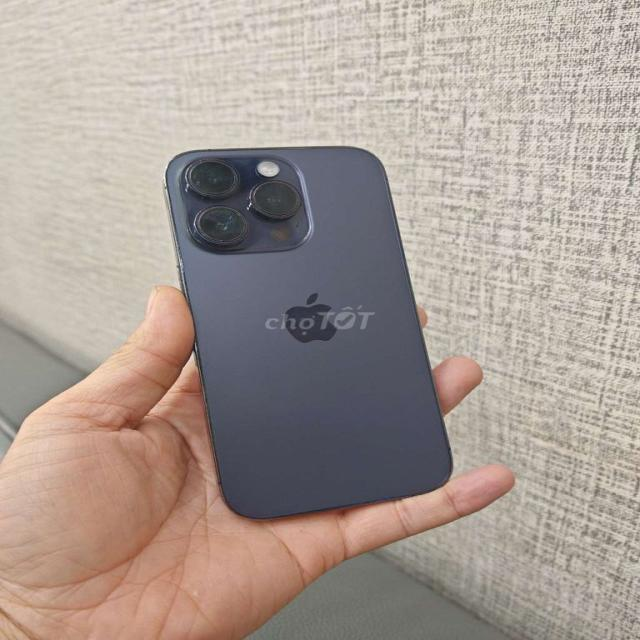physical_damage: (164, 244, 200, 344)
scratch: (182, 153, 257, 196), (188, 200, 248, 253), (247, 179, 314, 224)
